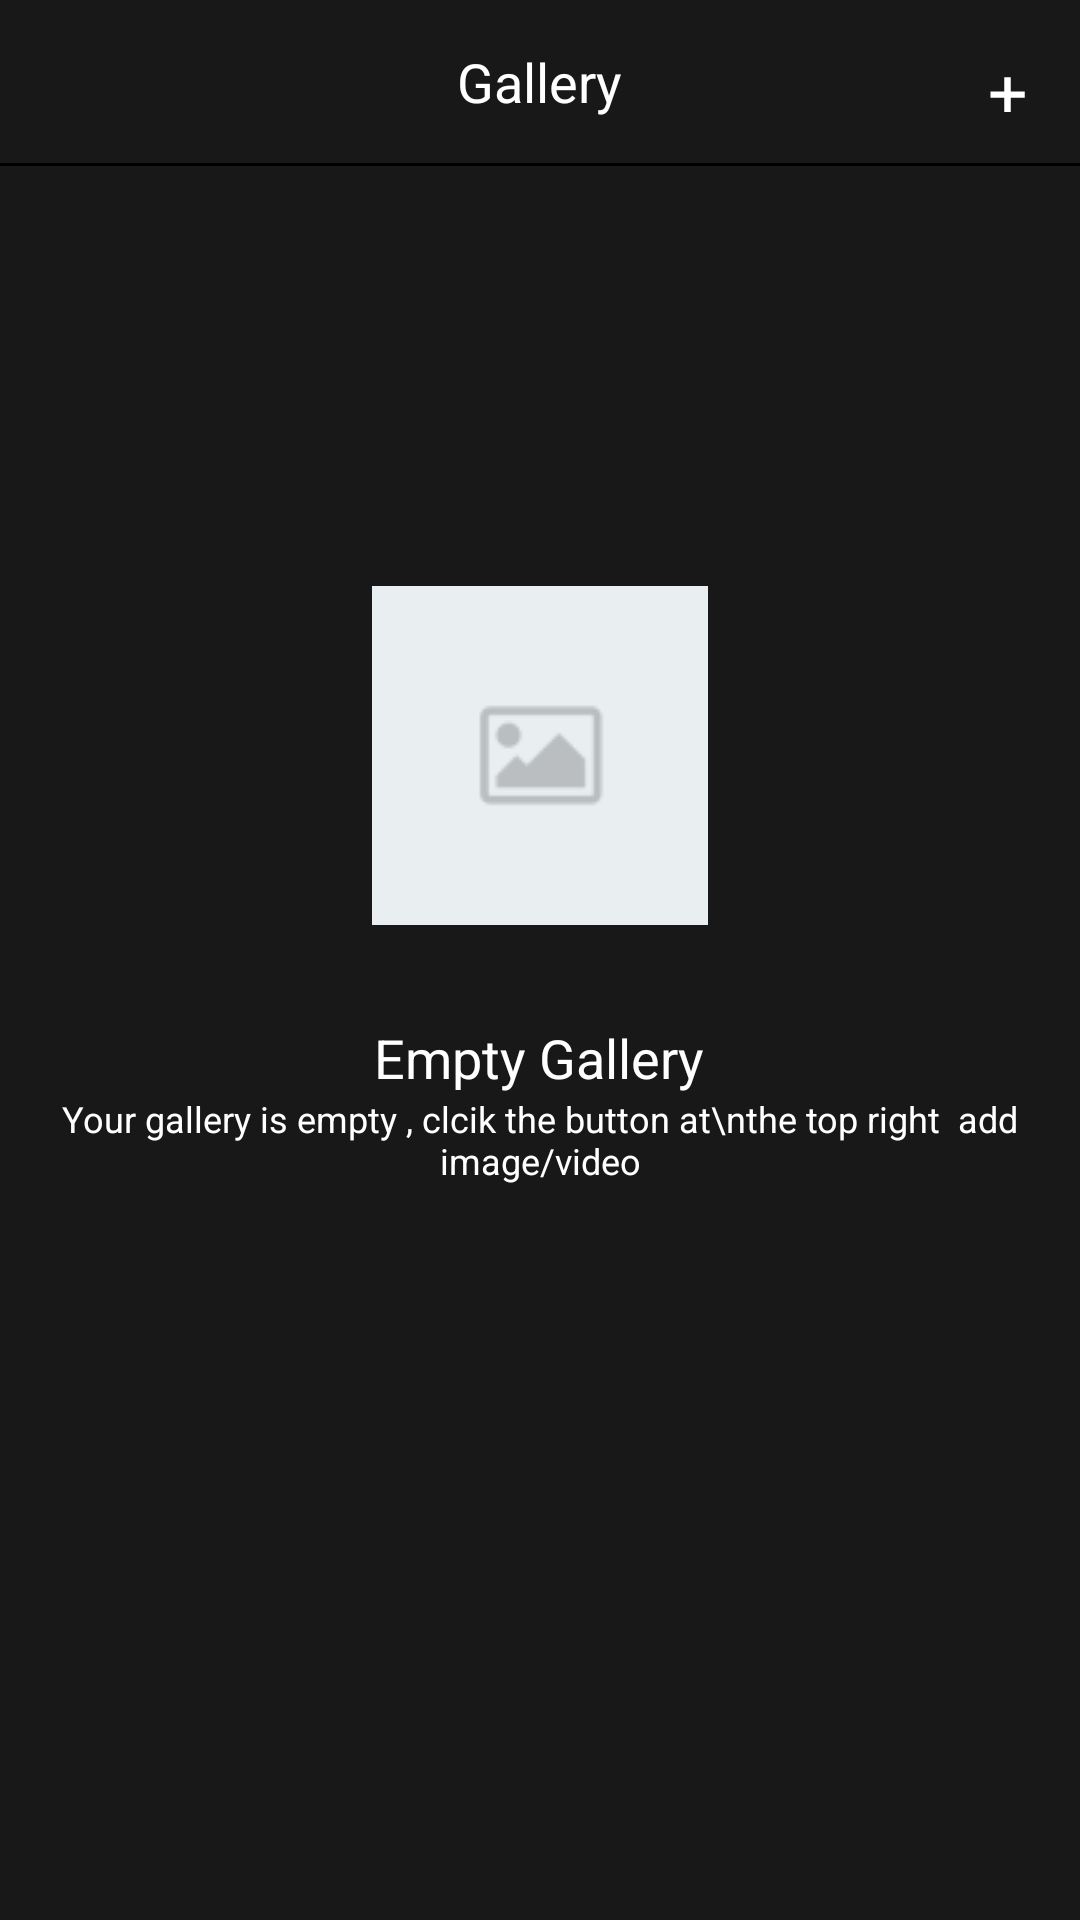

Named icons in this screenshot (1080px×1920px) and their bounding boxes, BBox(x1, y1, x2, y2):
add: BBox(990, 77, 1025, 112)
